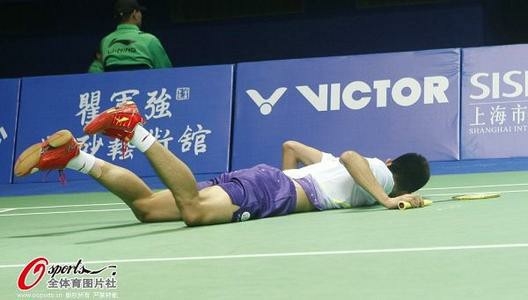fall: (31, 95, 431, 229)
